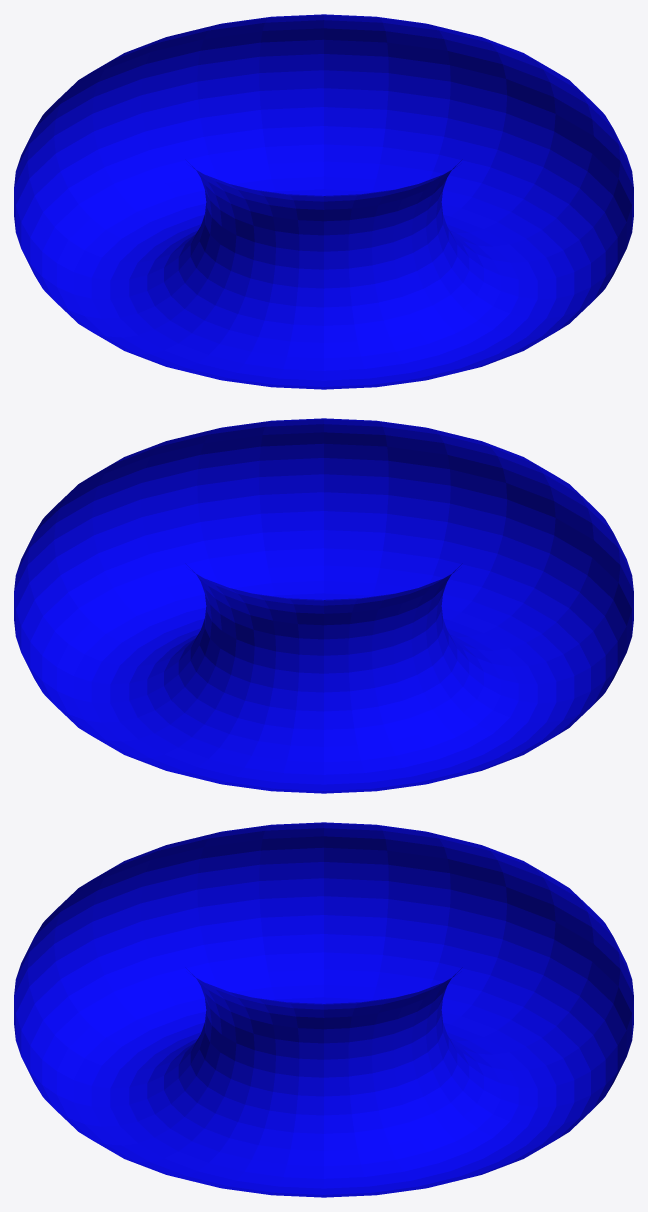
3 views of the same model, one above another, from view 1: azimuth 30°, elevation 25°; view 2: azimuth 150°, elevation 25°; view 3: azimuth 270°, elevation 25° (orthographic).
Parts seen in each view (by area): view 1: algeomath (1); view 2: algeomath (1); view 3: algeomath (1).
Part boxes in pixels (x1=…): algeomath (1): x1=14, y1=14, x2=633, y2=389; algeomath (1): x1=14, y1=418, x2=633, y2=793; algeomath (1): x1=14, y1=822, x2=633, y2=1197.
Size of the model in its own units: 0.3 by 0.0933 by 0.2984.
Materials: 1 (1 with a texture image).
